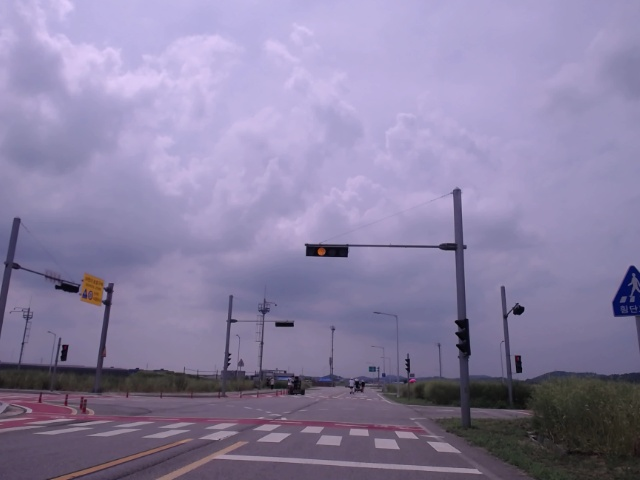orange_4: (305, 243, 350, 259)
